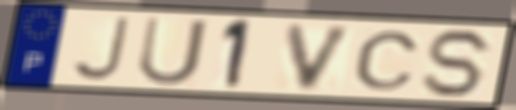1: (217, 17, 256, 91)
C: (351, 29, 423, 92)
J: (68, 15, 133, 83)
S: (420, 27, 499, 100)
U: (135, 14, 211, 88)
V: (283, 22, 359, 93)
